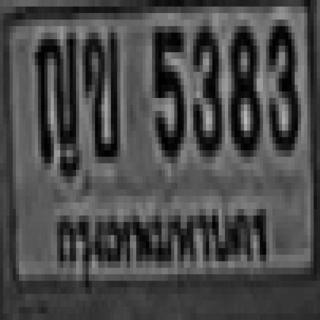A02: (82, 30, 117, 154)
A13: (35, 29, 76, 160)
N03: (266, 20, 298, 150), (190, 20, 218, 150)
N05: (152, 23, 184, 154)
N08: (228, 20, 257, 150)
P04: (51, 195, 274, 277)
